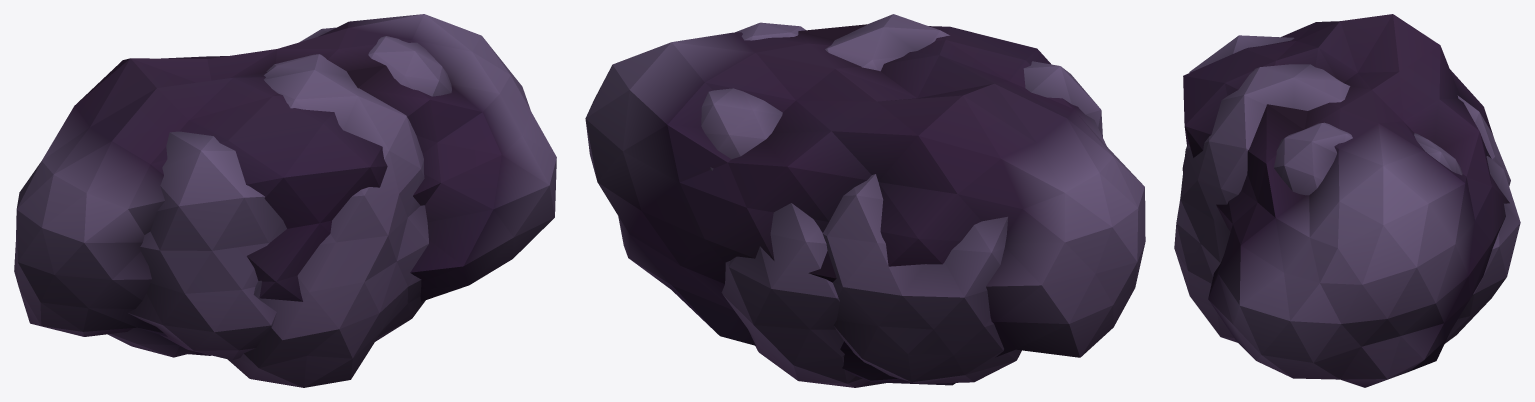
The model's file is asteroides-CV-J0Iyv.glb.
3 views of the same model, side by side, from view 1: azimuth 30°, elevation 25°; view 2: azimuth 150°, elevation 25°; view 3: azimuth 270°, elevation 25° (orthographic). The views are drawn at different scales.
Parts seen in each view (by area): view 1: Asteroide B, Asteroide A, Asteroide C; view 2: Asteroide B, Asteroide C, Asteroide A; view 3: Asteroide B, Asteroide A, Asteroide C.
Part boxes in pixels (x1=…): Asteroide B: x1=14, y1=14, x2=556, y2=355; Asteroide A: x1=228, y1=54, x2=428, y2=387; Asteroide C: x1=108, y1=27, x2=451, y2=360; Asteroide B: x1=585, y1=24, x2=1145, y2=385; Asteroide C: x1=701, y1=22, x2=1102, y2=383; Asteroide A: x1=721, y1=14, x2=949, y2=387; Asteroide B: x1=1182, y1=14, x2=1509, y2=387; Asteroide A: x1=1174, y1=64, x2=1520, y2=343; Asteroide C: x1=1189, y1=35, x2=1510, y2=195.
Bounding box in the file's own units: 1.6 × 0.8886 × 0.9917.
